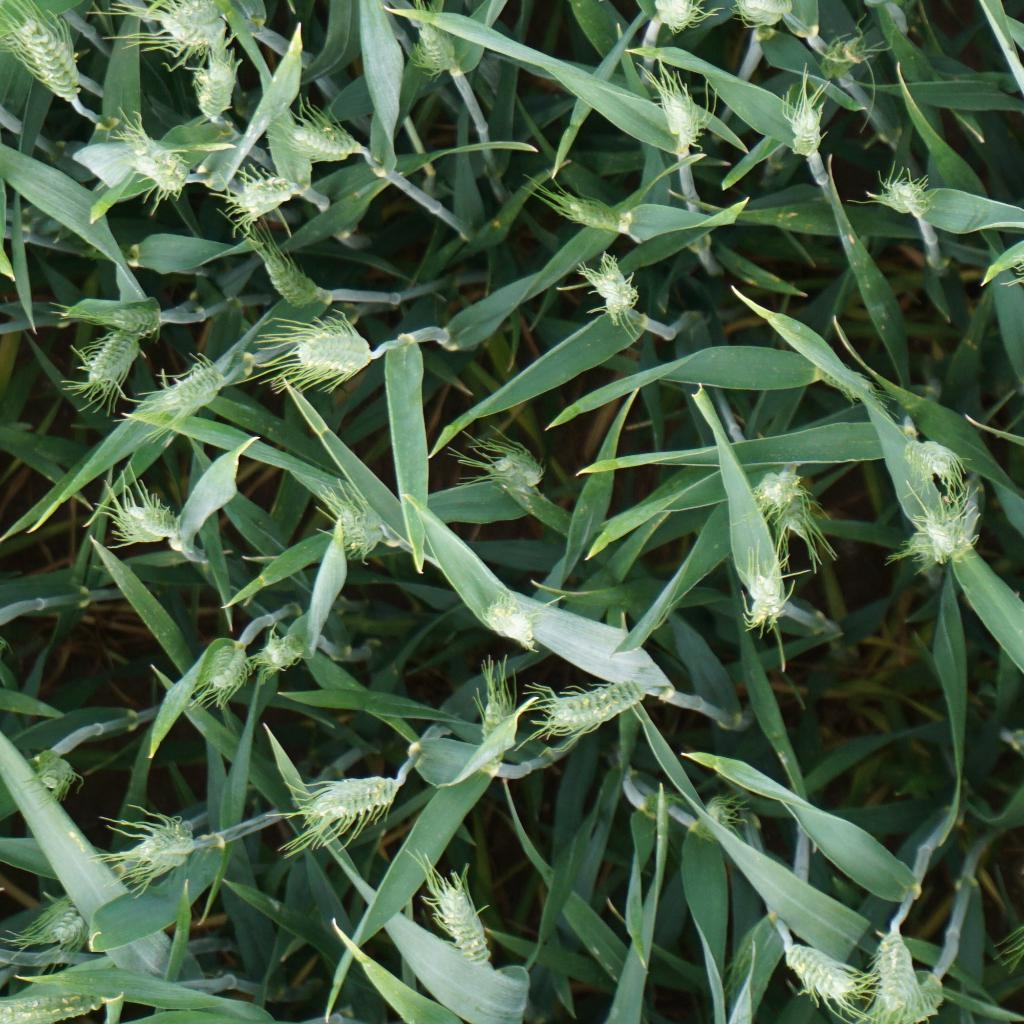0-0: (271, 757, 436, 862), (524, 645, 668, 758), (229, 196, 350, 324), (53, 301, 171, 415), (108, 777, 227, 885), (264, 90, 394, 187), (251, 314, 392, 400), (17, 854, 124, 967), (423, 844, 515, 971), (516, 162, 658, 244), (694, 550, 811, 647), (454, 652, 542, 777), (84, 109, 201, 202), (771, 909, 871, 1010), (378, 0, 482, 97), (0, 951, 138, 1024), (211, 151, 333, 233), (105, 0, 269, 59), (181, 23, 253, 156), (858, 912, 943, 1024), (558, 250, 663, 336), (35, 279, 187, 338), (894, 479, 982, 579), (302, 486, 397, 578), (0, 0, 93, 93), (474, 422, 567, 509), (627, 84, 715, 173), (0, 735, 88, 822), (95, 495, 207, 562), (181, 624, 266, 712), (744, 466, 827, 555), (766, 87, 850, 163), (894, 416, 970, 496), (806, 22, 884, 94), (246, 616, 321, 687), (792, 357, 888, 412), (865, 158, 940, 219), (686, 777, 756, 839)
